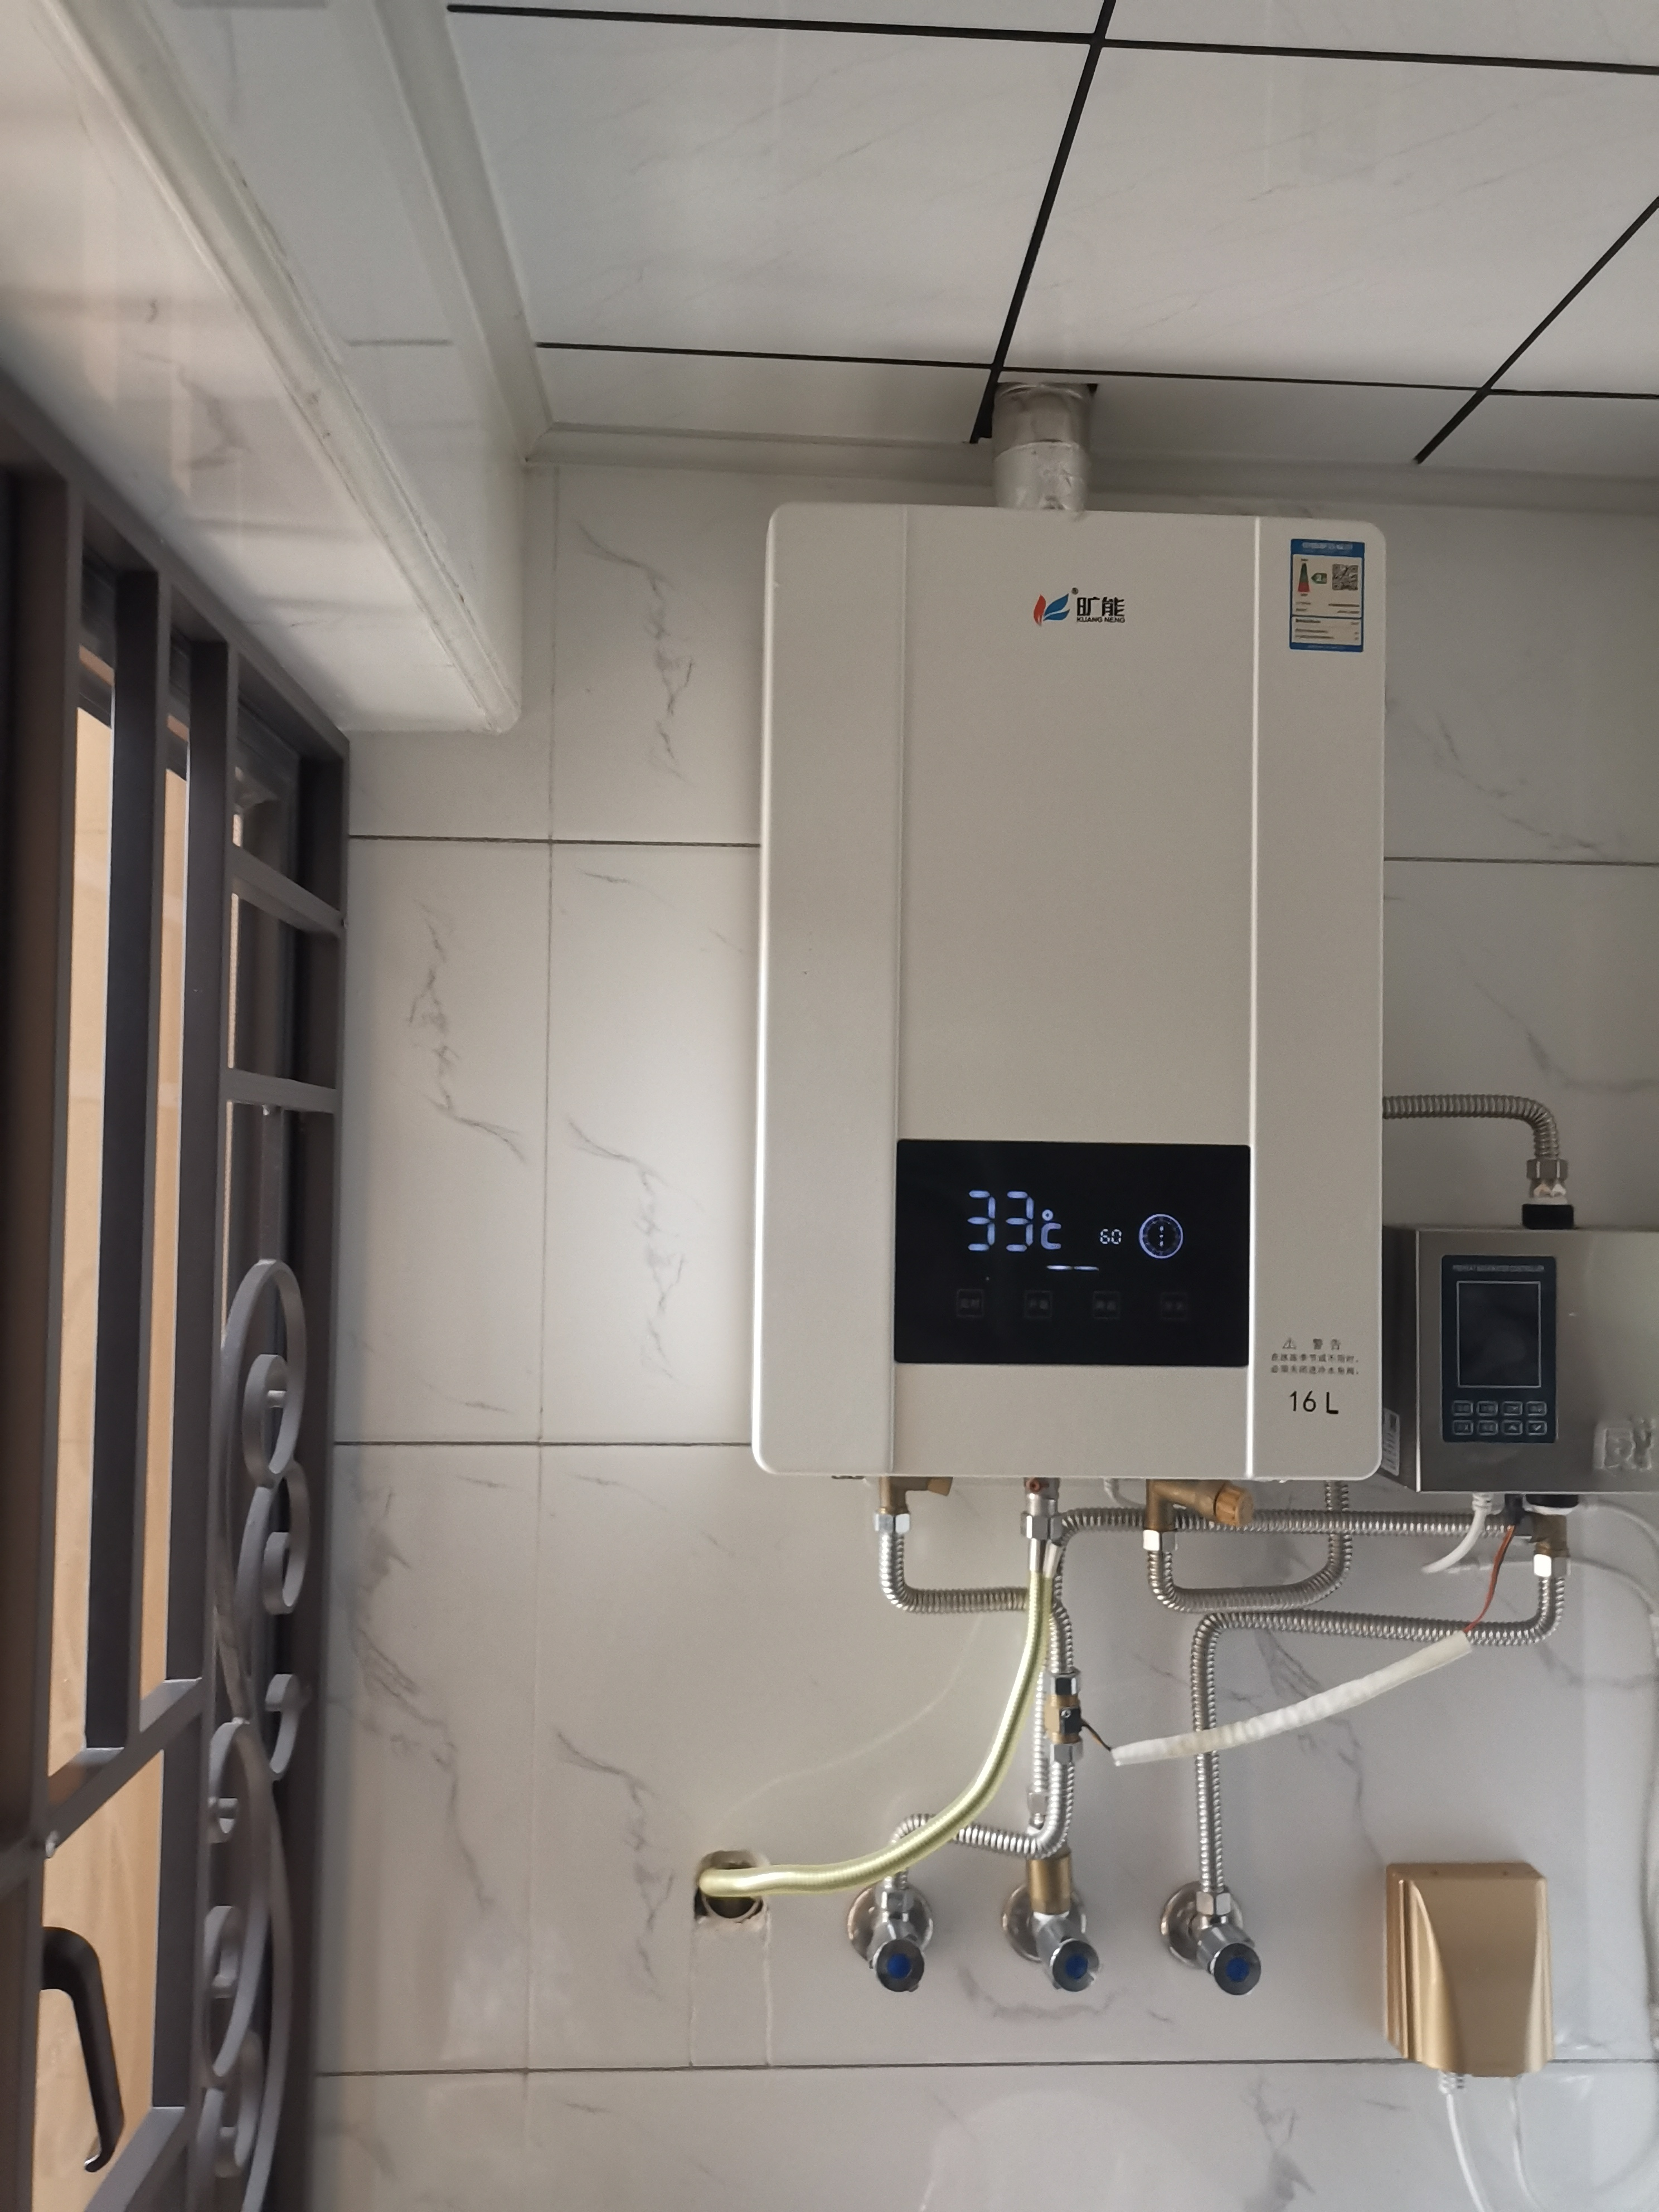loudou: (1025, 582, 1154, 637)
